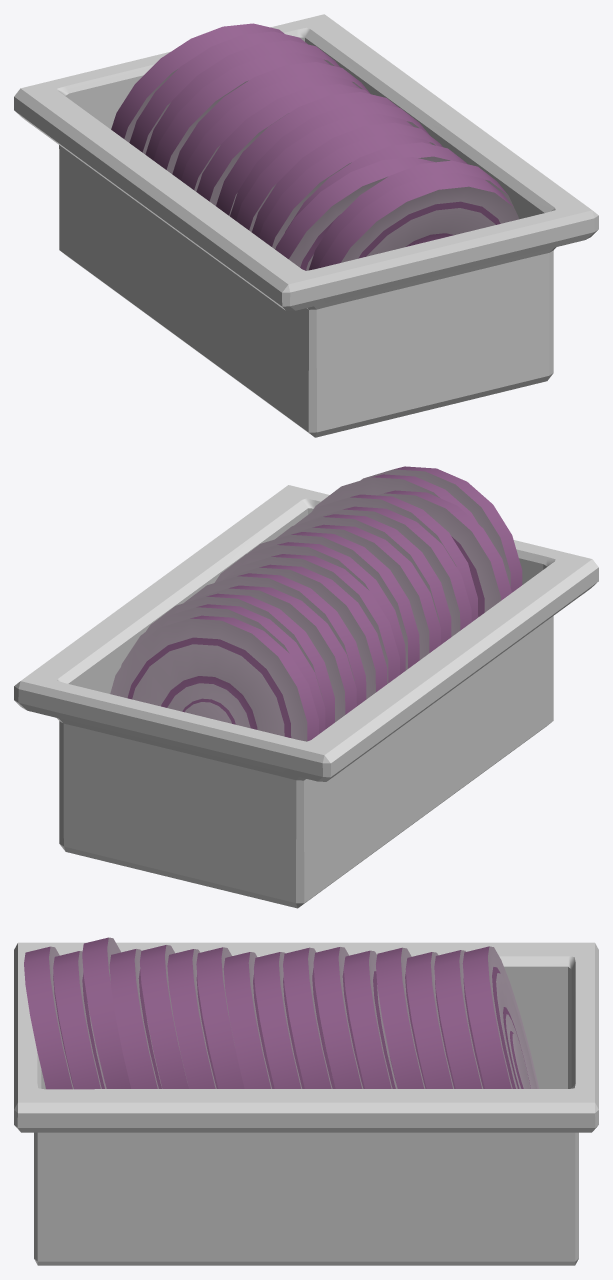
Rendered from hotelPanOnion.fbx.
The picture shows the model from 3 angles, top to bottom: view 1: azimuth 30°, elevation 25°; view 2: azimuth 150°, elevation 25°; view 3: azimuth 270°, elevation 25°; orthographic projection. The views are drawn at different scales.
Visible parts, largest first — view 1: hotelPanOnion; view 2: hotelPanOnion; view 3: hotelPanOnion.
Part boxes in pixels (left/top/right/bottom): hotelPanOnion: left=14, top=14, right=598, bottom=437; hotelPanOnion: left=14, top=466, right=598, bottom=908; hotelPanOnion: left=14, top=937, right=598, bottom=1265.
Size of the model in its own units: 16.5 by 11.44 by 24.5.
